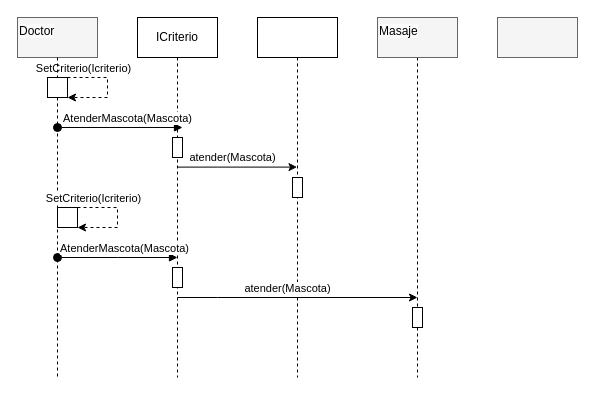
The diagram is 595 pixels wide and 396 high, and some of its shapes have lost their labels. The shapes that lost their labels are listed below. From the top down, each one's centre as x and y in pixels, then its label:
At point (537, 37): "Inyeccion".
At point (297, 197): "Operacion".
